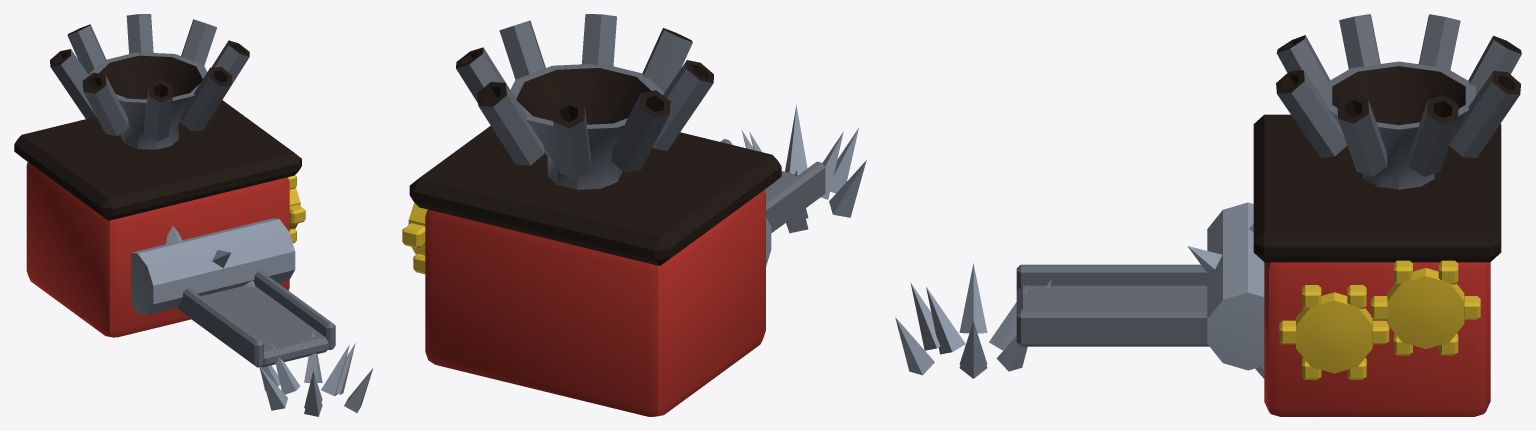
3 views of the same model, side by side, from view 1: azimuth 30°, elevation 25°; view 2: azimuth 150°, elevation 25°; view 3: azimuth 270°, elevation 25° (orthographic). The views are drawn at different scales.
Parts seen in each view (by area): view 1: espinhos_0_base; view 2: espinhos_0_base; view 3: espinhos_0_base.
Boxes of the visible parts, x1,y1,x2,y2 form: espinhos_0_base: (14,14,373,416); espinhos_0_base: (402,14,866,416); espinhos_0_base: (895,14,1521,416).
Size of the model in its own units: 0.596 by 0.6331 by 1.16.
